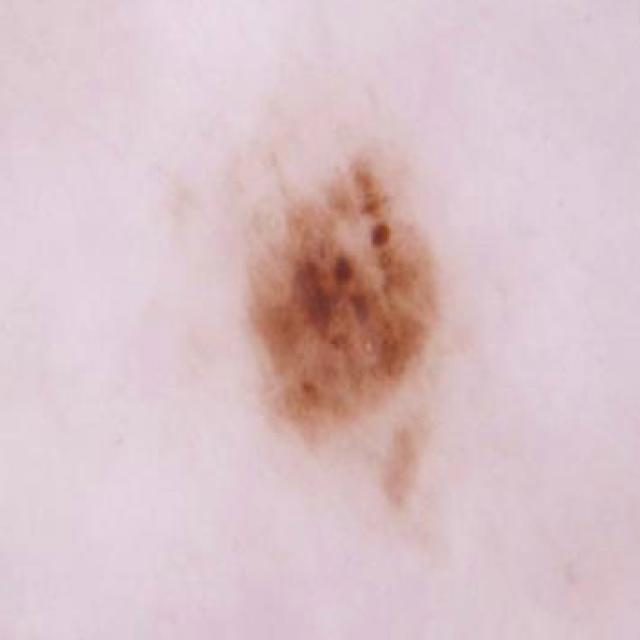MEL: (191, 130, 501, 462)
